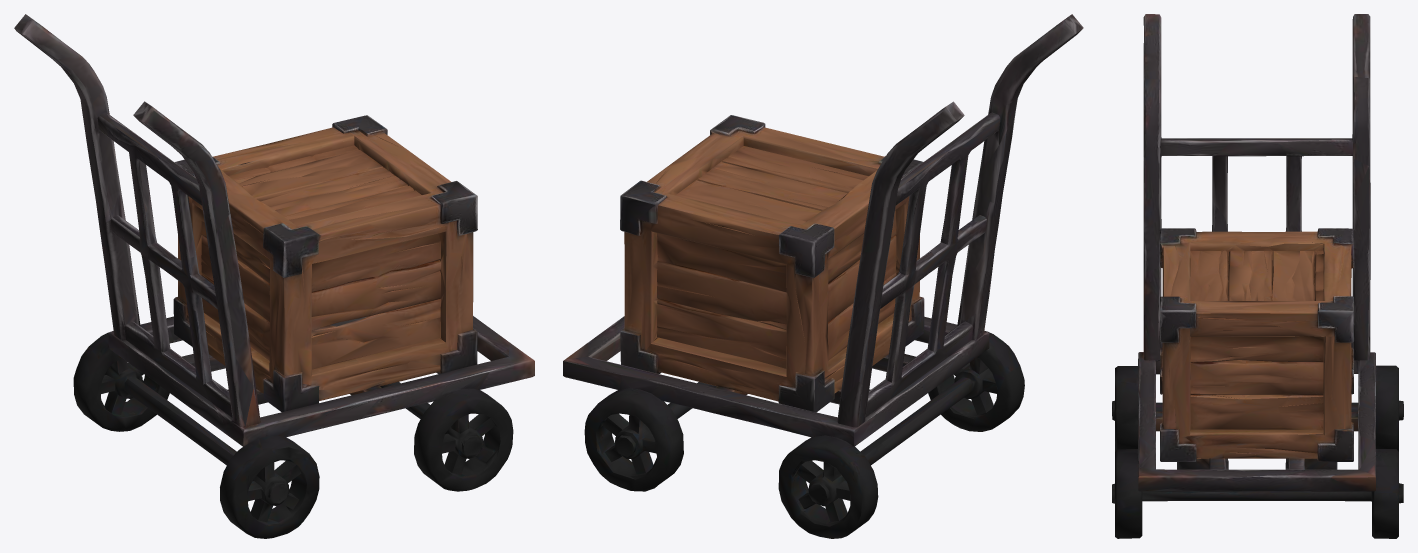
Rendered from decor_cart_crate_idle.glb.
The picture shows the model from 3 angles, left to right: view 1: azimuth 30°, elevation 25°; view 2: azimuth 150°, elevation 25°; view 3: azimuth 270°, elevation 25°; orthographic projection. The views are drawn at different scales.
Visible parts, largest first — view 1: tripo_node_8b513764-0d4a-44dc-bbbf-72b4da53470b; view 2: tripo_node_8b513764-0d4a-44dc-bbbf-72b4da53470b; view 3: tripo_node_8b513764-0d4a-44dc-bbbf-72b4da53470b.
Boxes of the visible parts, x1,y1,x2,y2 form: tripo_node_8b513764-0d4a-44dc-bbbf-72b4da53470b: [14, 14, 534, 538]; tripo_node_8b513764-0d4a-44dc-bbbf-72b4da53470b: [563, 14, 1083, 538]; tripo_node_8b513764-0d4a-44dc-bbbf-72b4da53470b: [1112, 14, 1403, 538].
Bounding box in the file's own units: 1.1 × 1.2 × 0.8106.
Materials: 1 (1 with a texture image).
